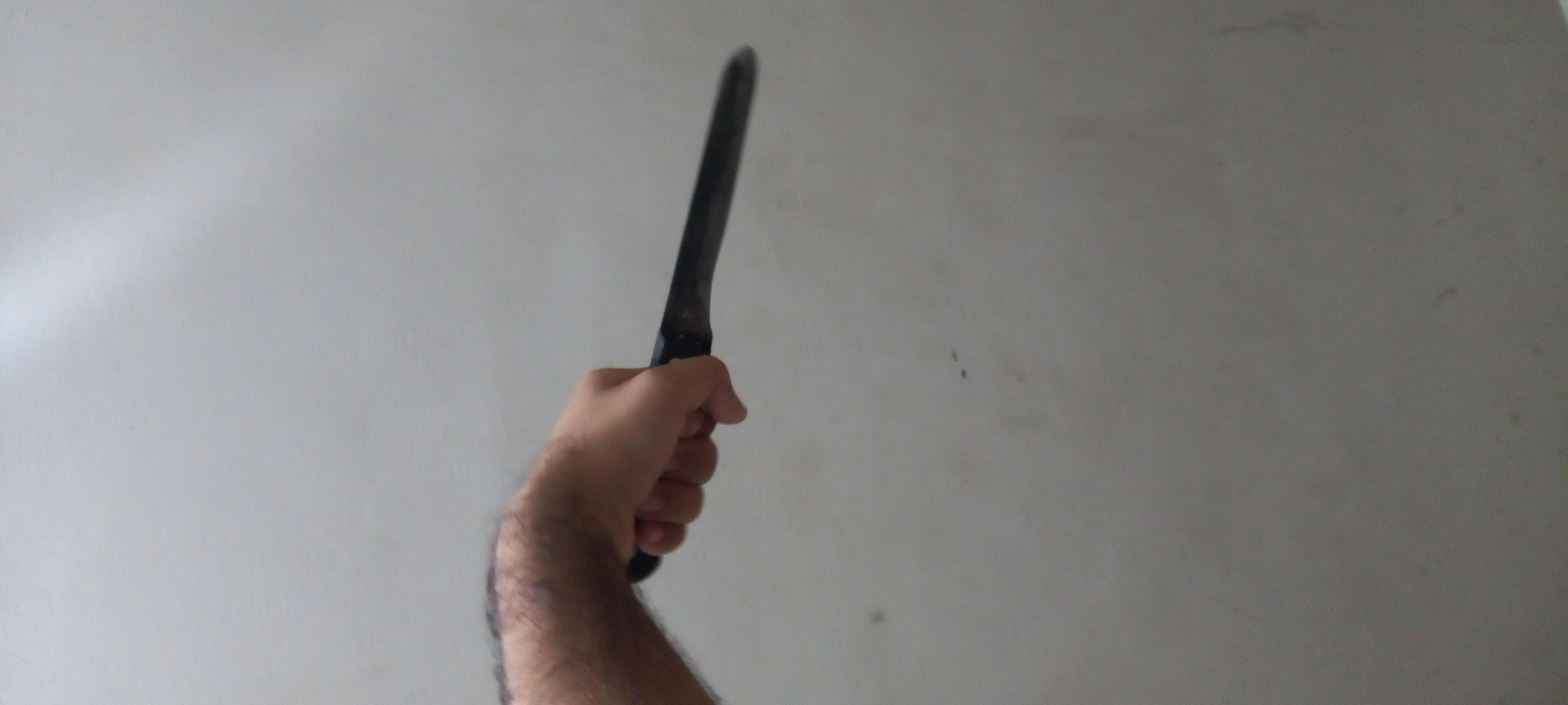knives: (431, 266, 1489, 348)
